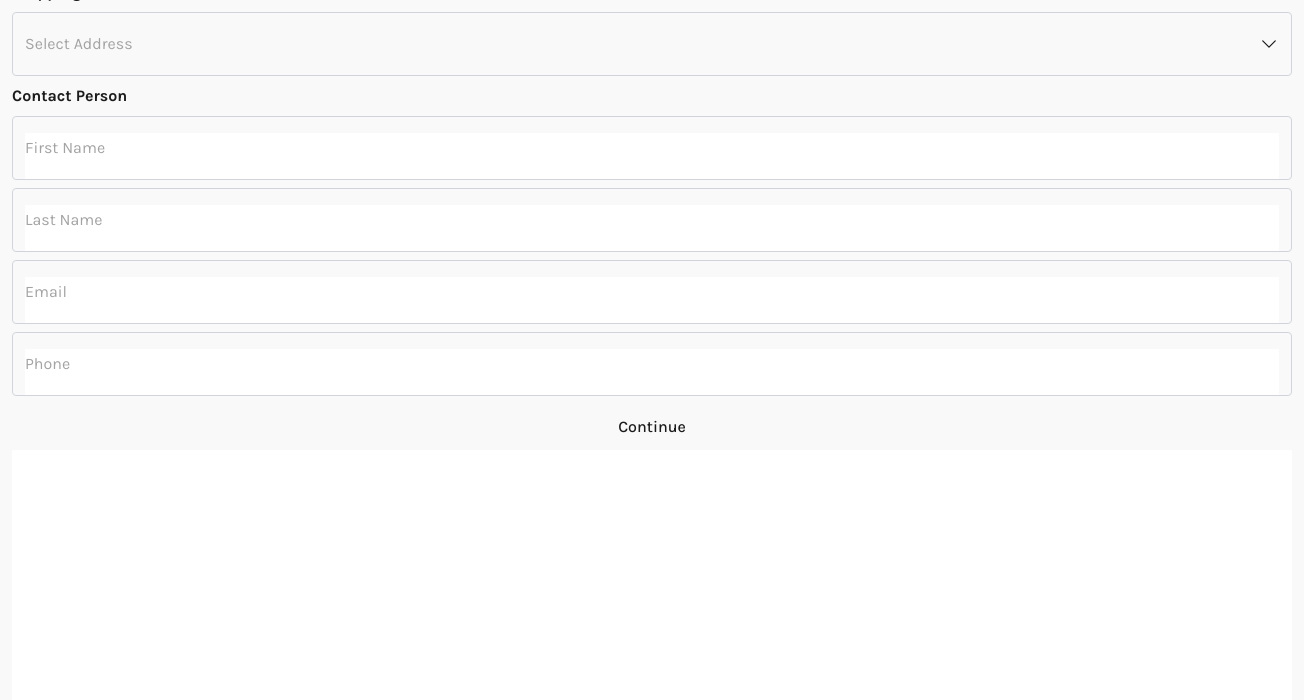
Test: B2BAddressForm › should show validation errors when submitting empty form
# Select "Other address" to show all fields
Click the field with test id "address-form__select-address": coordinates (79, 44) [25,34,1279,54]
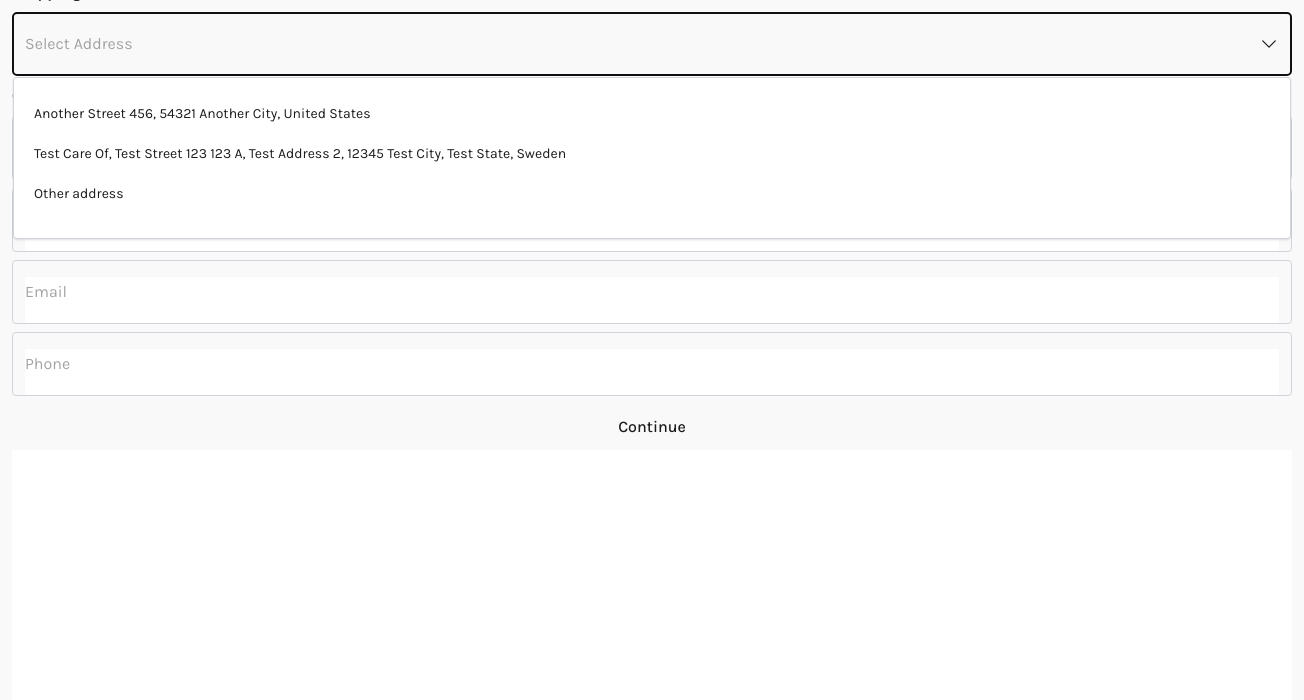
Now the text "Other address" is shown
Click the option "Other address": coordinates (79, 194) [34,185,124,202]
(page scrolled)
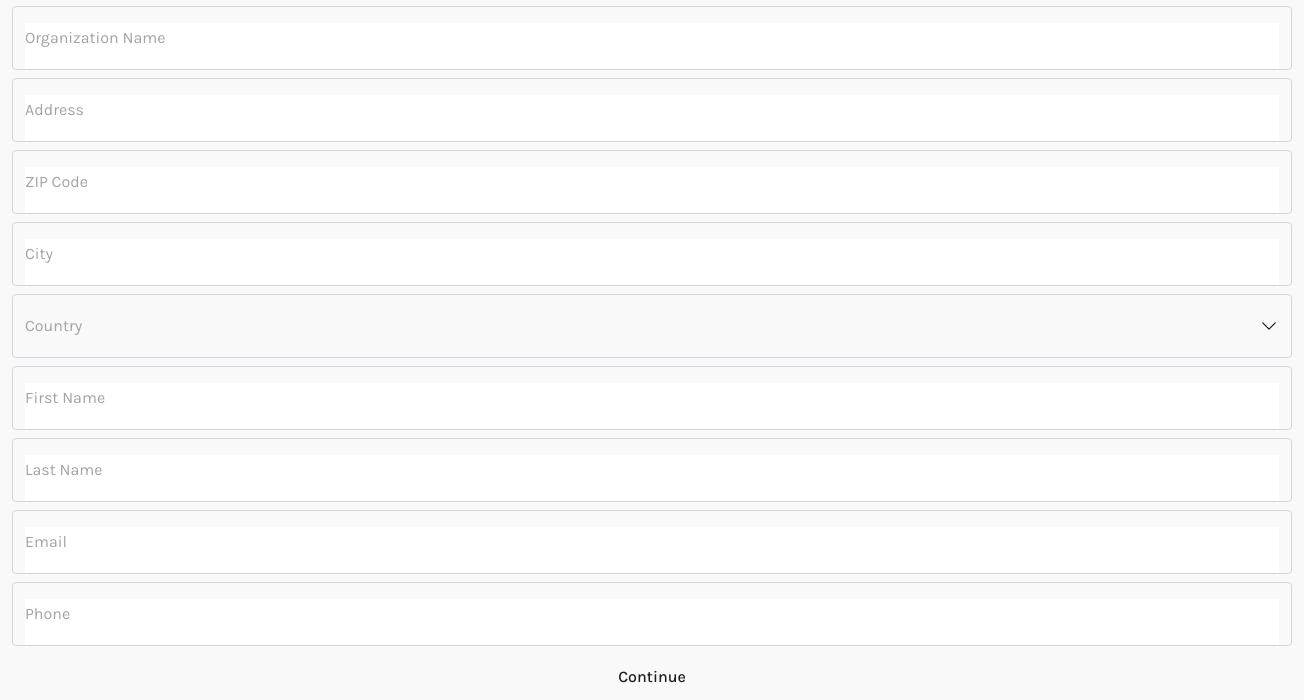
# Submit empty form
Click the button with test id "address-form__submit": coordinates (652, 677) [12,654,1292,699]
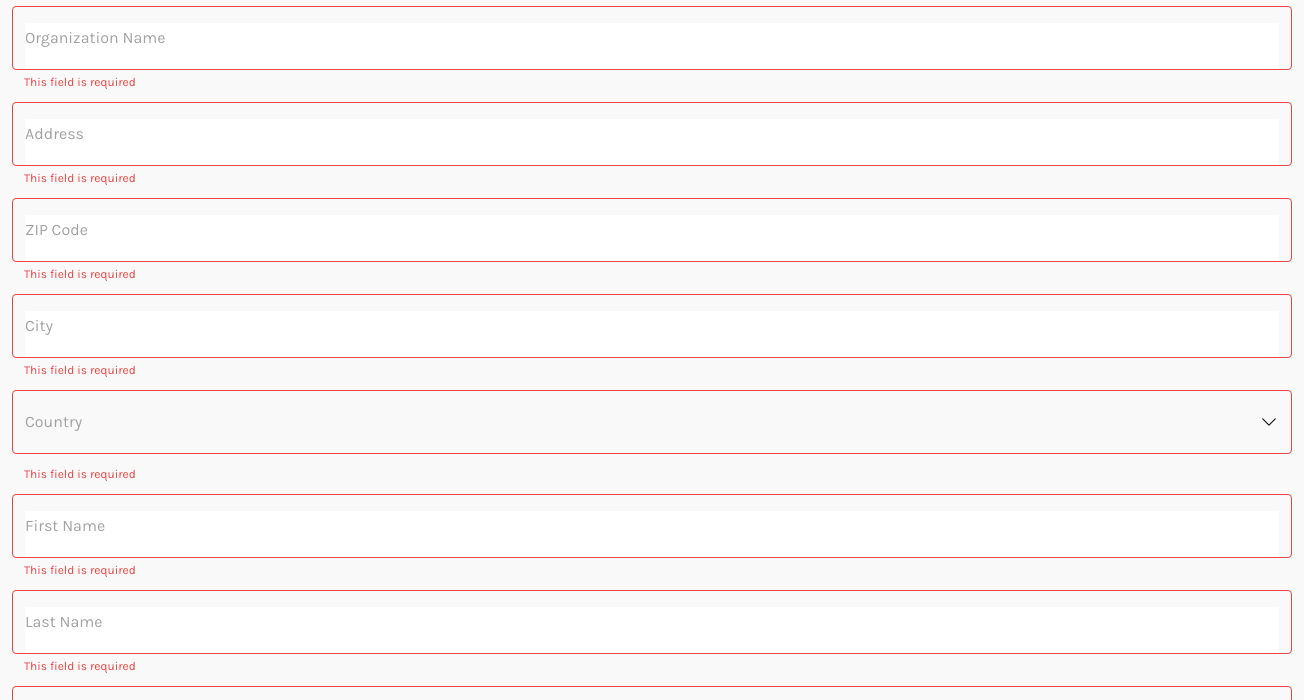
Now the number of elements with test id "error-text" is 9
